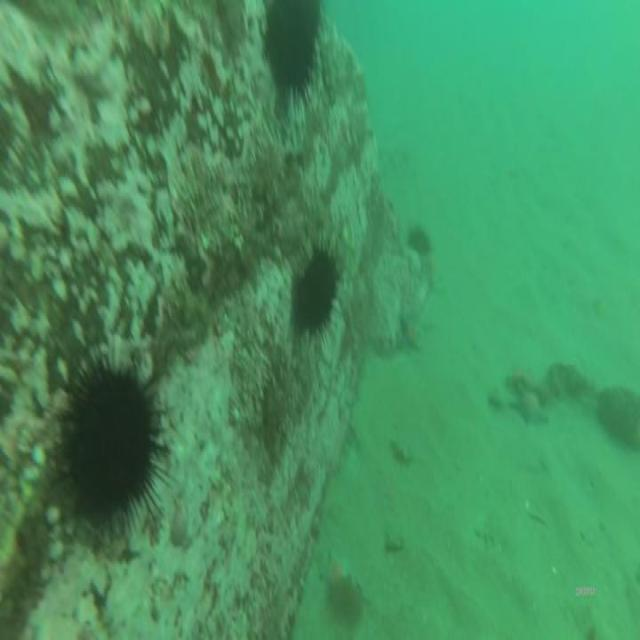echinus: (67, 374, 156, 509), (262, 0, 320, 84), (298, 253, 338, 333), (408, 228, 429, 258)
starfish: (510, 384, 546, 427), (400, 311, 426, 351)
